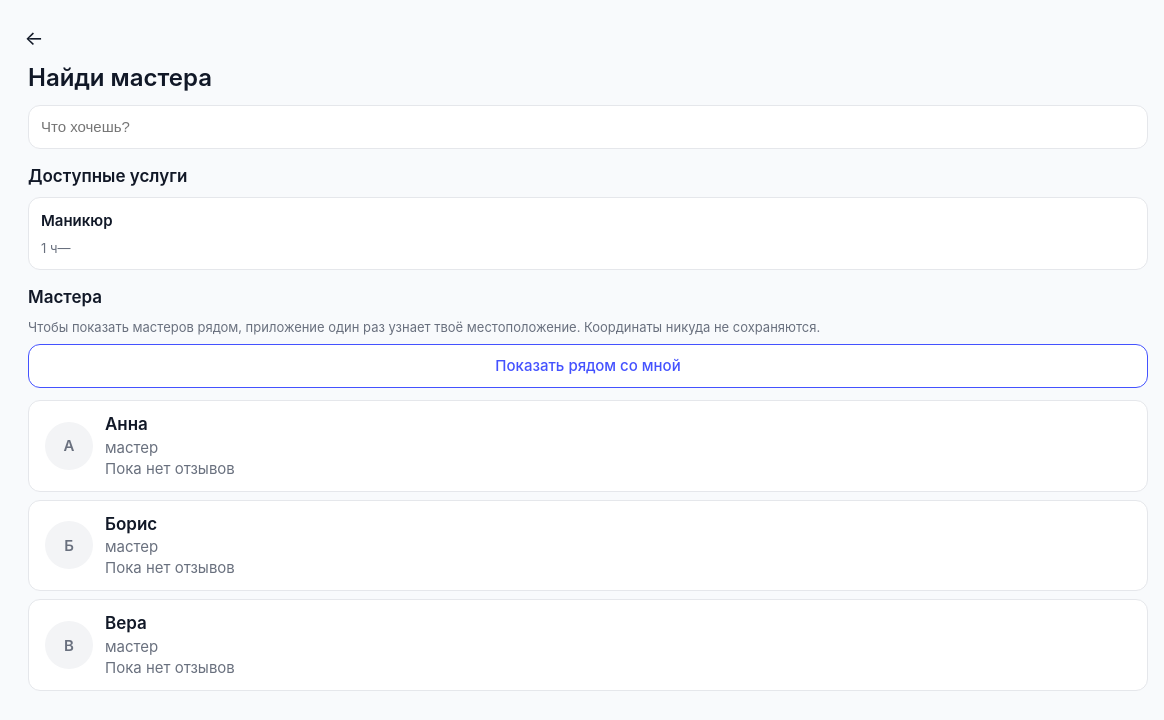
Test: кнопка «Показать рядом со мной» (D3) › тап → ОС один раз без кэша → мастера с координатами → «Рядом с тобой» и подписи
Click the button "Показать рядом со мной": (588,366) [28,344,1148,388]
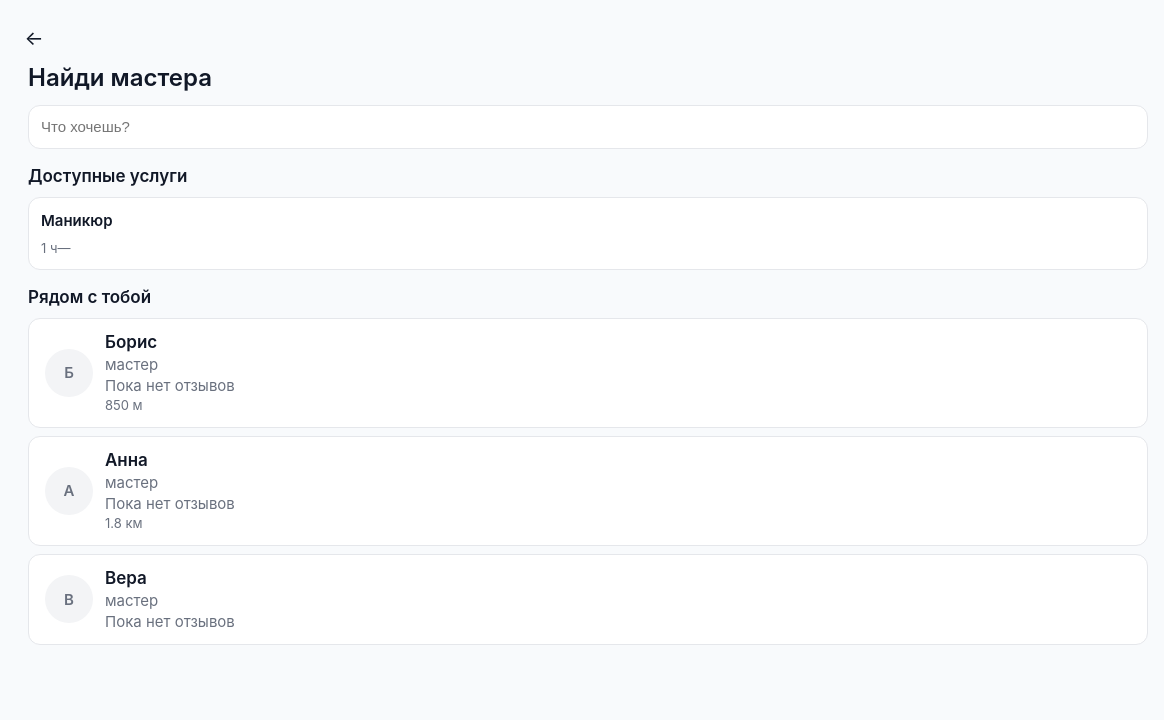
Expected: the heading "Рядом с тобой" is shown, [28,287,151,307]
Expected: the elements with test id "master-distance" read "850 м", "1.8 км", in this order, [105,397,143,413]; [105,515,142,531]
Expected: the button "Показать рядом со мной" is gone
